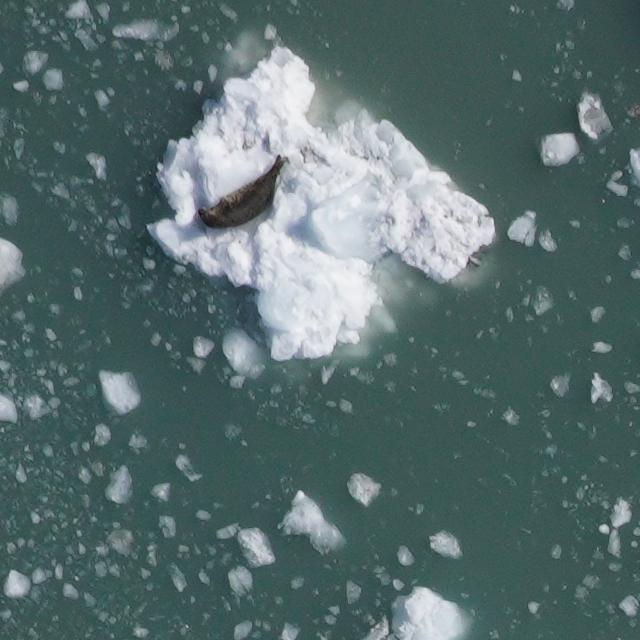seal: (192, 149, 292, 234)
